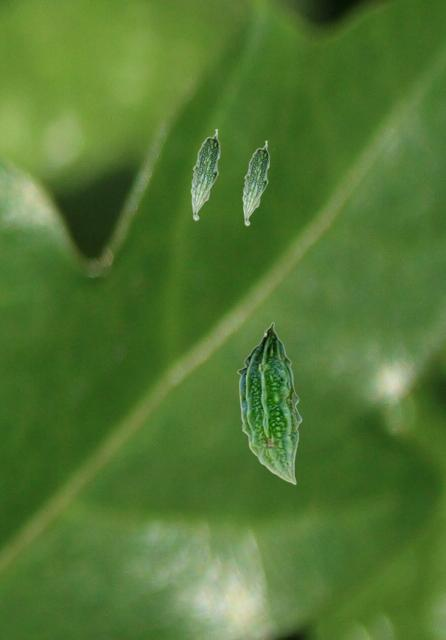ampalaya: (236, 320, 302, 485), (189, 128, 220, 222), (241, 140, 270, 226)
